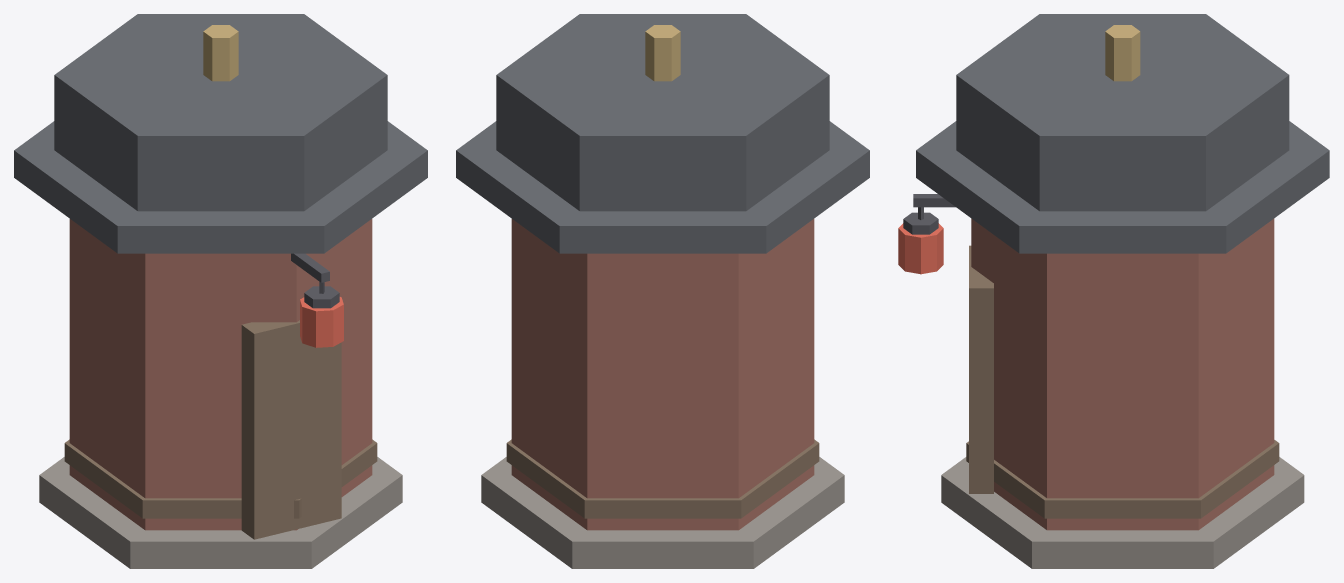
Rendered from civic_koban.glb.
3 views of the same model, side by side, from view 1: azimuth 30°, elevation 25°; view 2: azimuth 150°, elevation 25°; view 3: azimuth 270°, elevation 25° (orthographic).
Parts seen in each view (by area): view 1: Koban_Body, Roof_Pyramid, Roof_Eaves, Door_Frame, Koban_Base, Dado_Trim, Roof_Finial, Lamp_Globe, Lamp_Cap, Lamp_Bracket; view 2: Koban_Body, Roof_Pyramid, Roof_Eaves, Koban_Base, Dado_Trim, Roof_Finial; view 3: Koban_Body, Roof_Pyramid, Roof_Eaves, Koban_Base, Dado_Trim, Door_Frame, Roof_Finial, Lamp_Globe, Lamp_Cap.
Boxes of the visible parts, x1,y1,x2,y2 form: Koban_Body: (69,219,372,530); Roof_Pyramid: (54,14,387,211); Roof_Eaves: (14,121,427,253); Door_Frame: (241,320,341,539); Koban_Base: (39,457,402,568); Dado_Trim: (64,439,377,518); Roof_Finial: (203,25,238,81); Lamp_Globe: (300,297,343,347); Lamp_Cap: (304,286,339,308); Lamp_Bracket: (291,253,329,282); Koban_Body: (511,219,814,530); Roof_Pyramid: (496,14,829,211); Roof_Eaves: (456,121,869,253); Koban_Base: (481,457,844,568); Dado_Trim: (506,439,819,518); Roof_Finial: (645,25,680,81); Koban_Body: (971,218,1274,530); Roof_Pyramid: (956,14,1289,211); Roof_Eaves: (916,121,1329,253); Koban_Base: (941,457,1304,568); Dado_Trim: (966,440,1279,518); Door_Frame: (969,245,993,493); Roof_Finial: (1105,25,1140,81); Lamp_Globe: (898,223,943,274); Lamp_Cap: (903,212,938,234).
Bounding box in the file's own units: 1.42 × 2.06 × 1.71.
